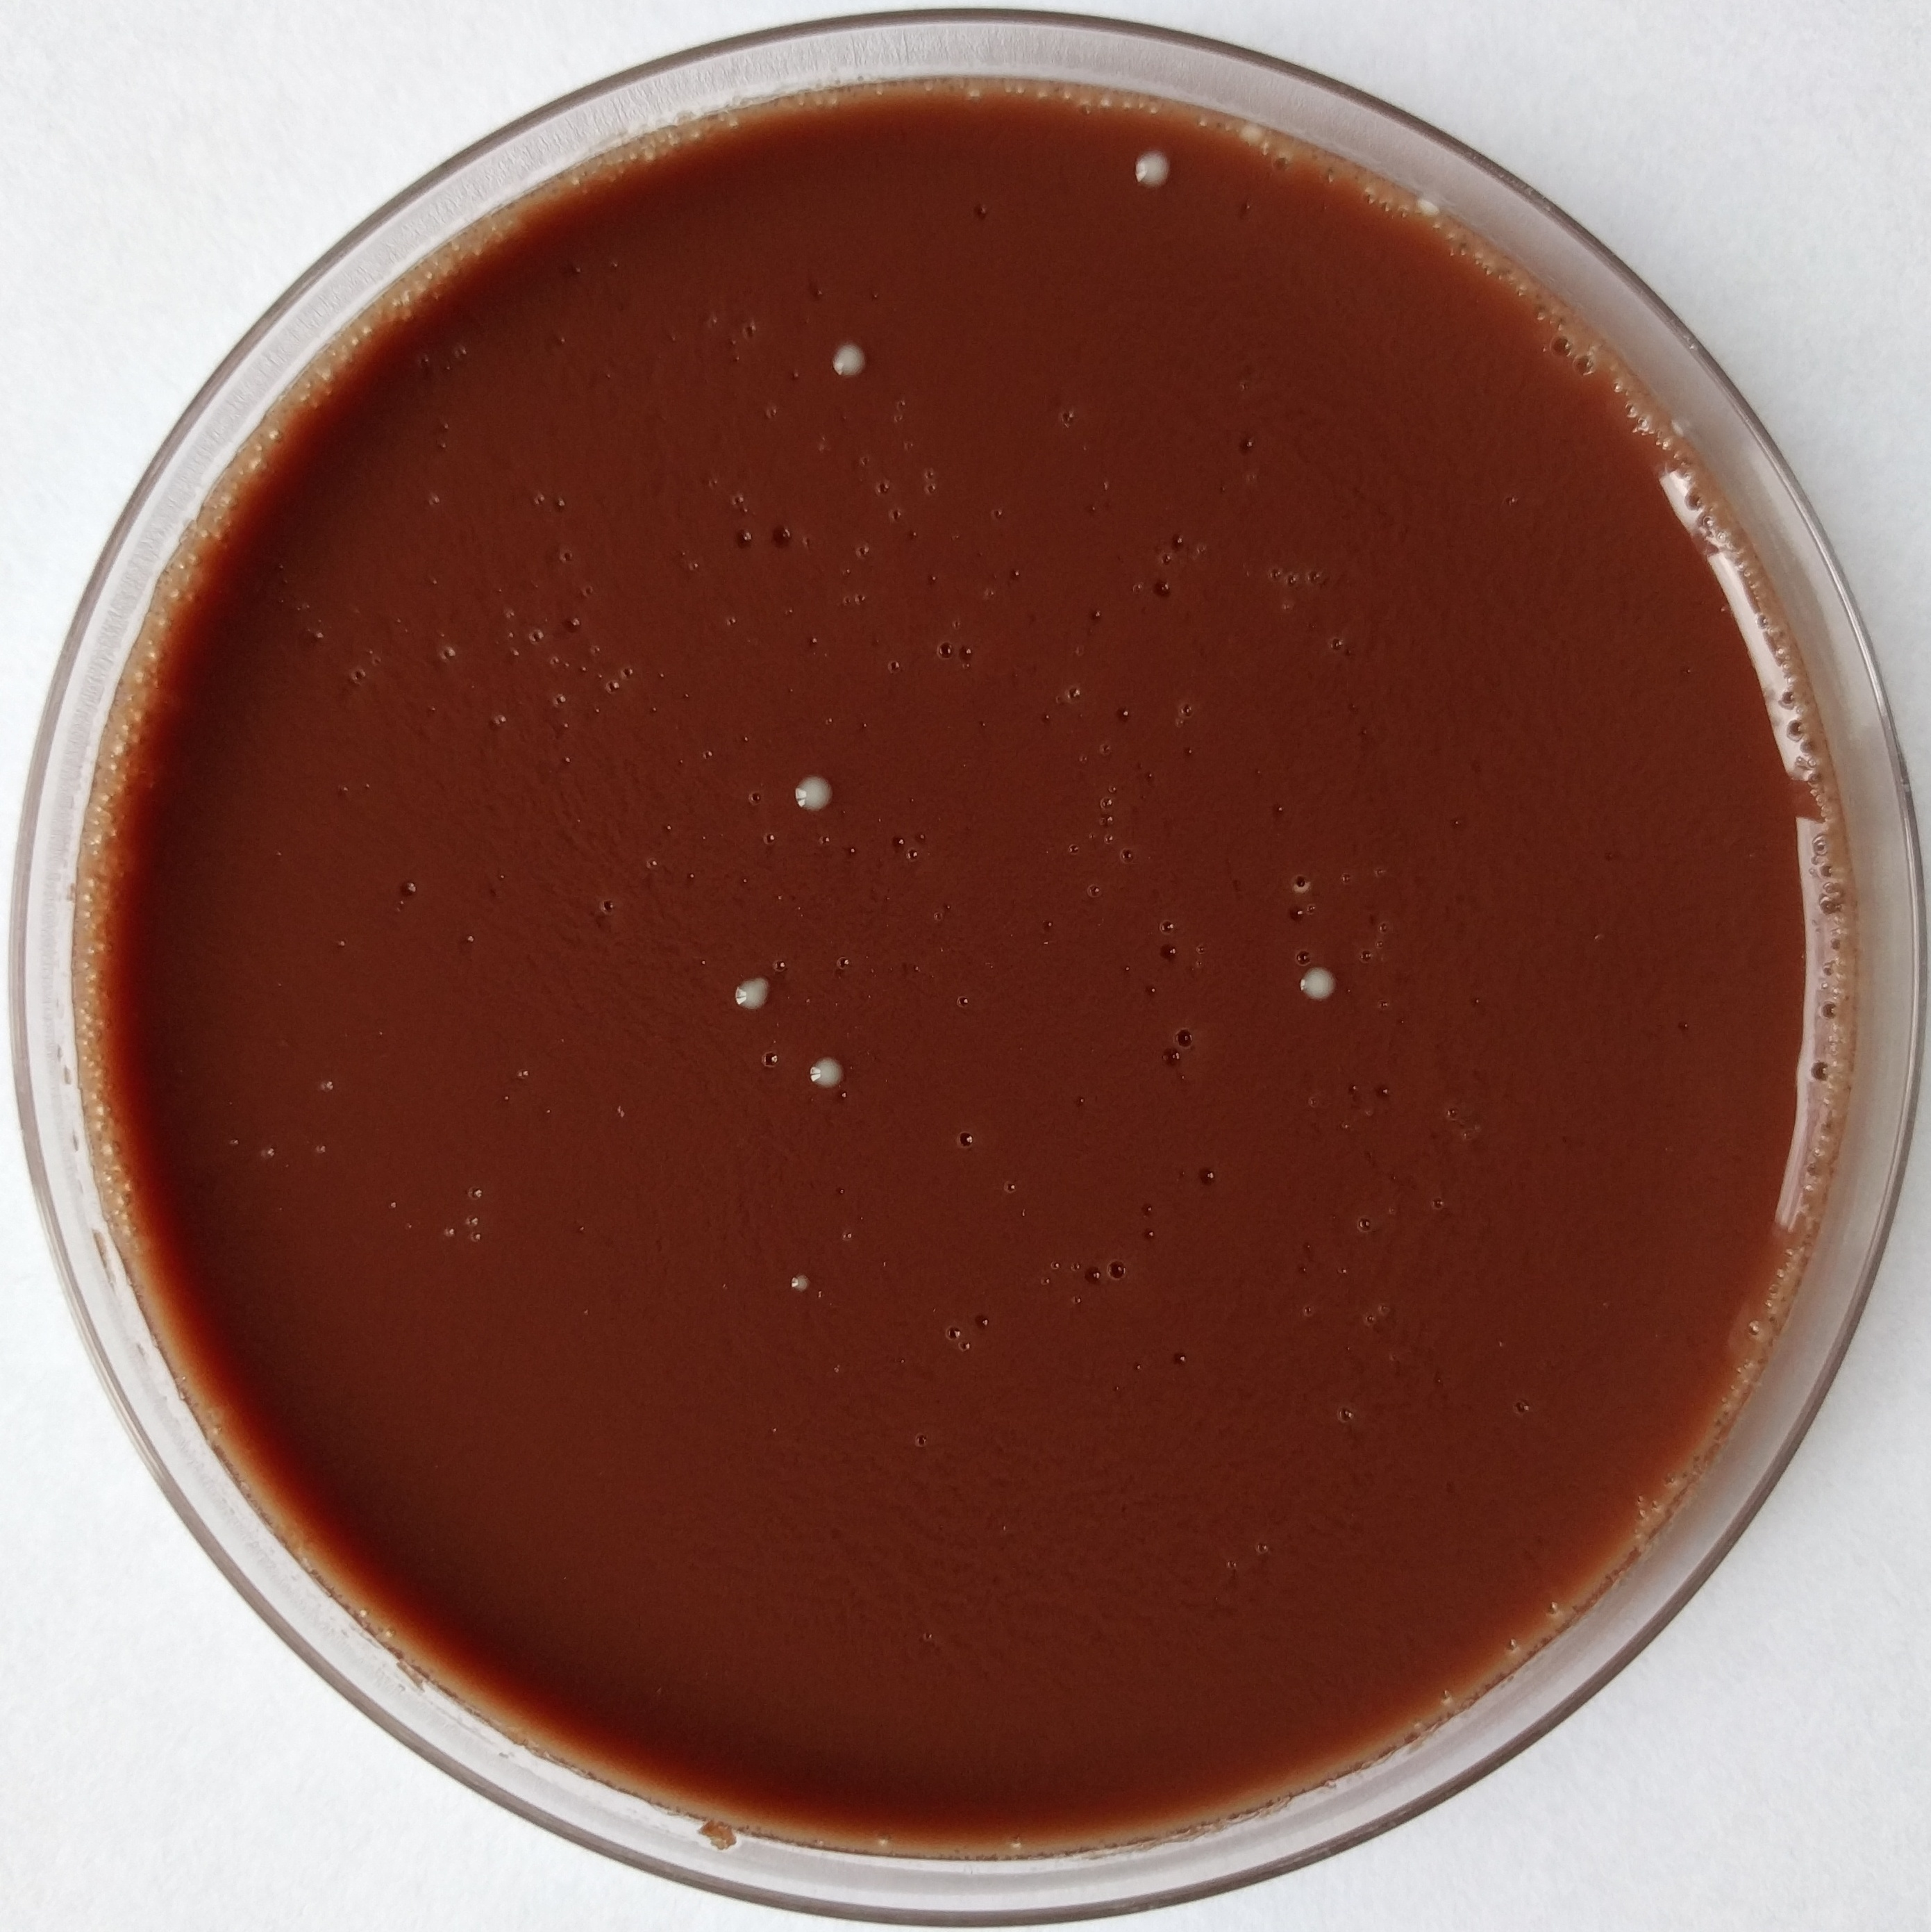sp12: (750, 748, 861, 839), (822, 313, 882, 400), (716, 957, 803, 1017), (1289, 950, 1353, 1014), (1135, 145, 1187, 196), (778, 1267, 831, 1313), (1399, 177, 1441, 234), (799, 1056, 851, 1099), (1229, 119, 1270, 161)
